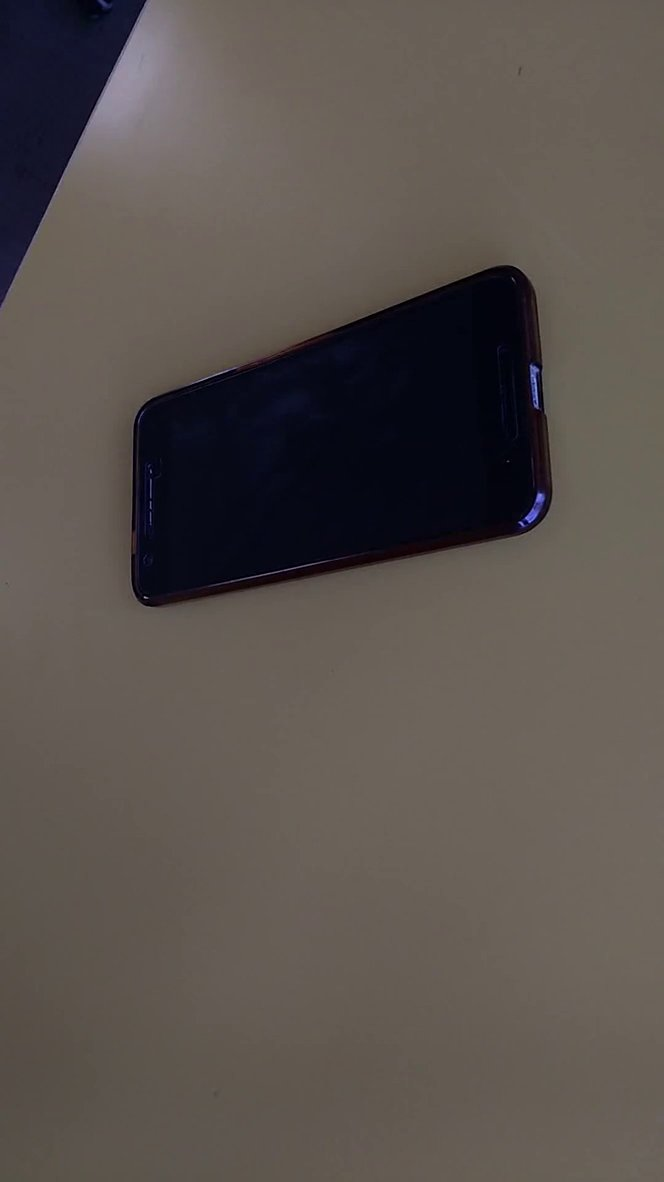phone: (124, 255, 563, 617)
